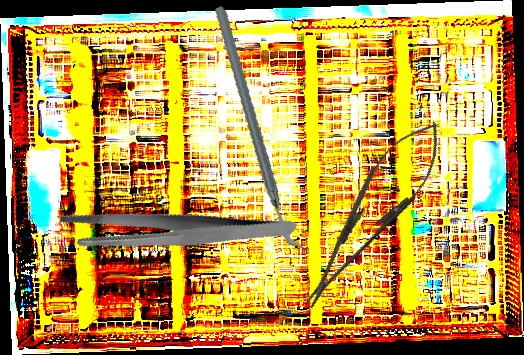Chopper: (185, 5, 334, 254)
Dressing Forceps: (54, 162, 298, 299)
Needle Holder: (285, 107, 458, 321)
